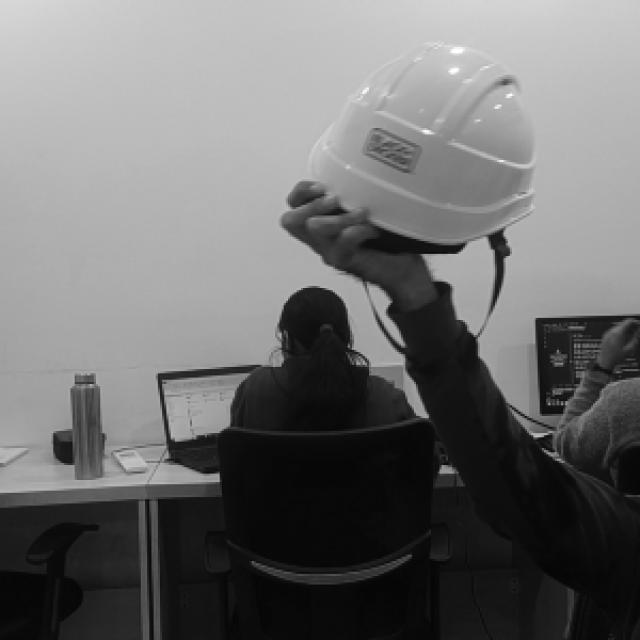safety_helmet: (307, 44, 538, 244)
